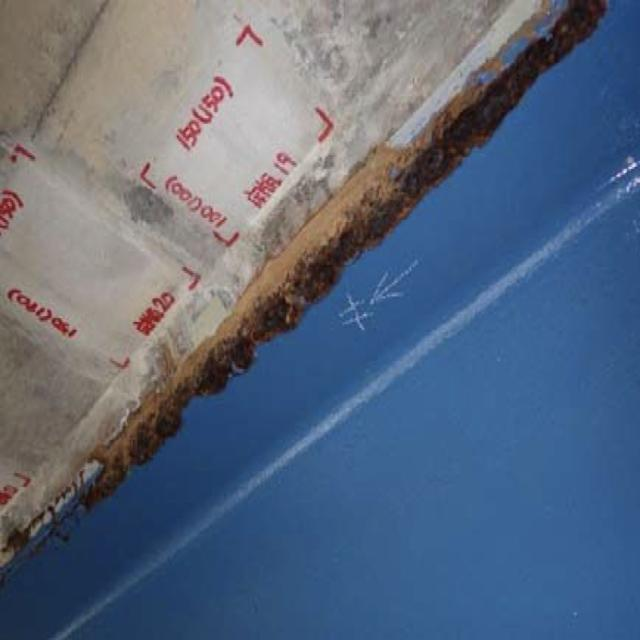corrosion: (77, 93, 424, 508), (440, 28, 614, 128)
